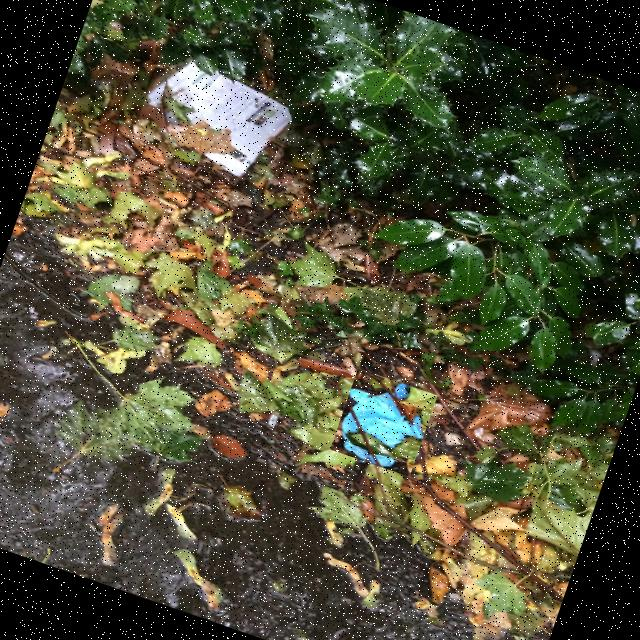Normal paper: (147, 60, 292, 177)
Plastic glooves: (342, 384, 423, 467)
